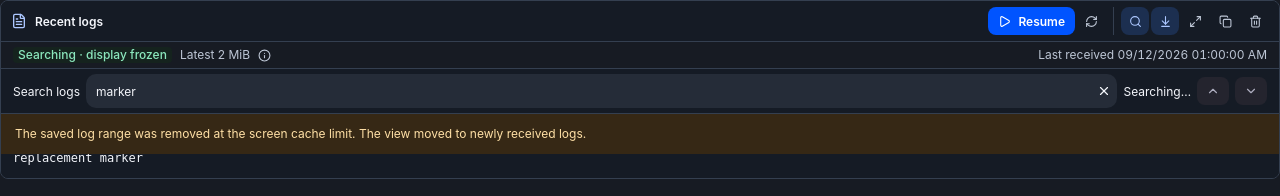
Test case: standalone target view restoration › explains the evicted range after a real replacement and resets the reason on Clear (en)
(page scrolled)
Expected: the search field holds "marker", [86,74,1118,108]
Expected: the button "Resume" is shown, [988,7,1075,35]
Click the button named "Clear displayed logs". click: (1255, 21)
box: [1241,7,1269,35]
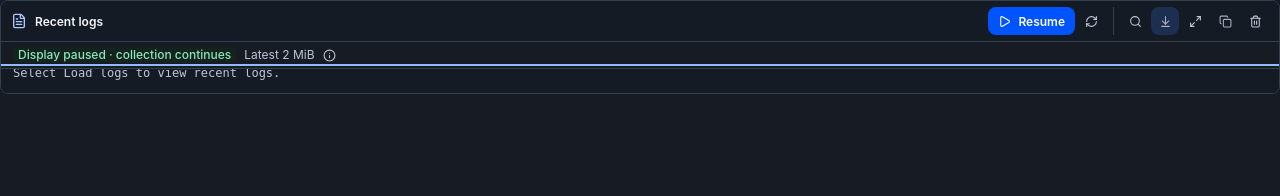
Expected: the text "screen cache limit" is gone
